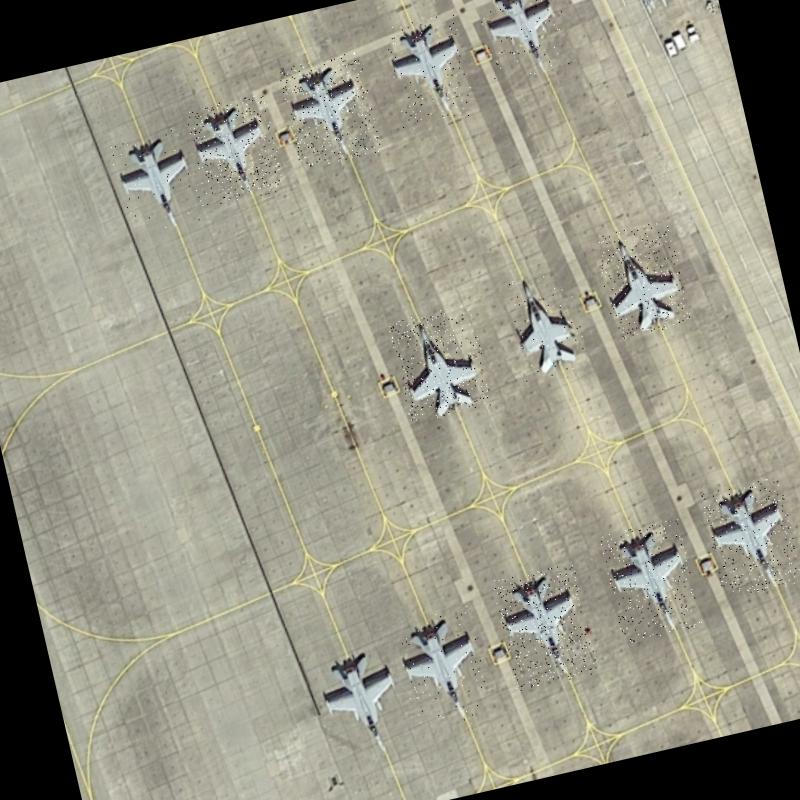A16: (491, 561, 598, 692), (392, 604, 495, 732), (598, 518, 702, 644), (387, 303, 493, 423), (307, 641, 412, 762), (700, 476, 800, 600), (278, 51, 382, 170), (592, 219, 692, 340), (185, 92, 286, 208), (380, 10, 477, 130), (106, 123, 206, 236), (502, 263, 589, 381), (473, 0, 574, 82)
